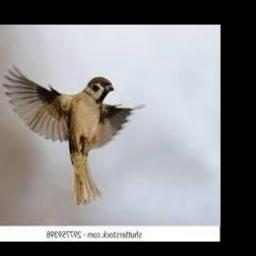Sparrow: (3, 64, 146, 205)
